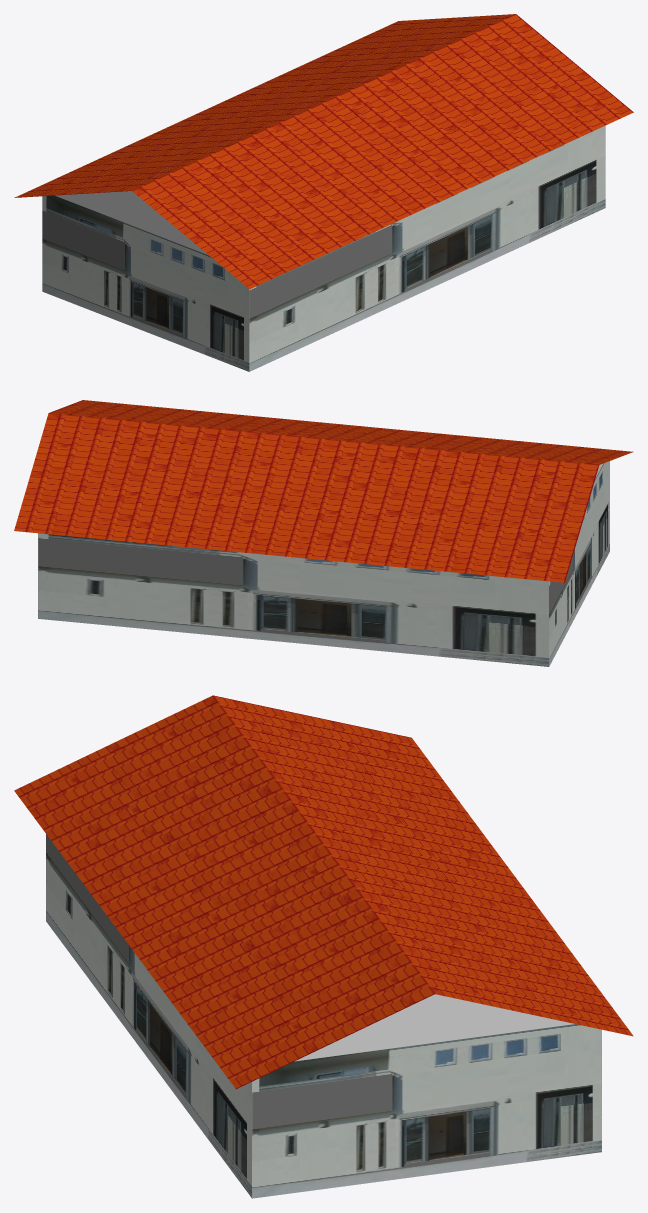
3 views of the same model, one above another, from view 1: azimuth 30°, elevation 25°; view 2: azimuth 150°, elevation 25°; view 3: azimuth 270°, elevation 25° (orthographic). The views are drawn at different scales.
Visible parts, largest first — view 1: CityEngineMaterial_12_m, CityEngineMaterial_11_m, CityEngineMaterial_3_m; view 2: CityEngineMaterial_12_m, CityEngineMaterial_11_m; view 3: CityEngineMaterial_12_m, CityEngineMaterial_11_m, CityEngineMaterial_3_m.
Boxes of the visible parts, x1,y1,x2,y2 form: CityEngineMaterial_12_m: (14, 14, 633, 289); CityEngineMaterial_11_m: (42, 125, 605, 371); CityEngineMaterial_3_m: (55, 191, 207, 254); CityEngineMaterial_12_m: (14, 400, 633, 582); CityEngineMaterial_11_m: (38, 461, 609, 666); CityEngineMaterial_12_m: (14, 695, 633, 1089); CityEngineMaterial_11_m: (46, 834, 601, 1198); CityEngineMaterial_3_m: (295, 994, 574, 1061).
Size of the model in its own units: 30.99 by 7.89 by 23.09.
